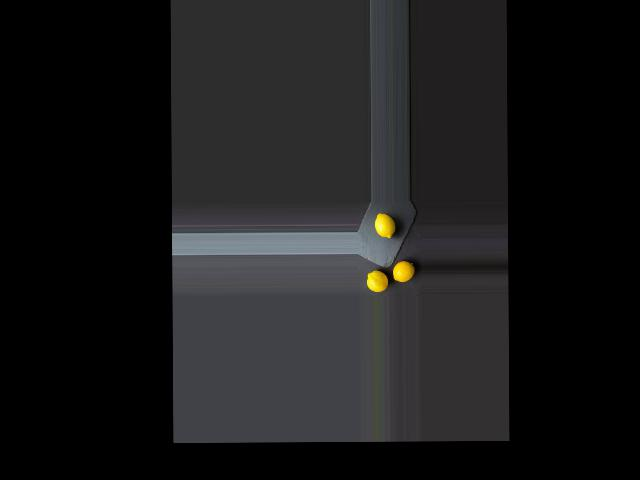lemon: (365, 268, 389, 293)
